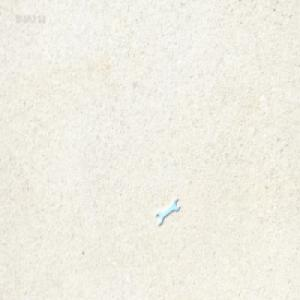Wrench: (156, 196, 181, 225)
